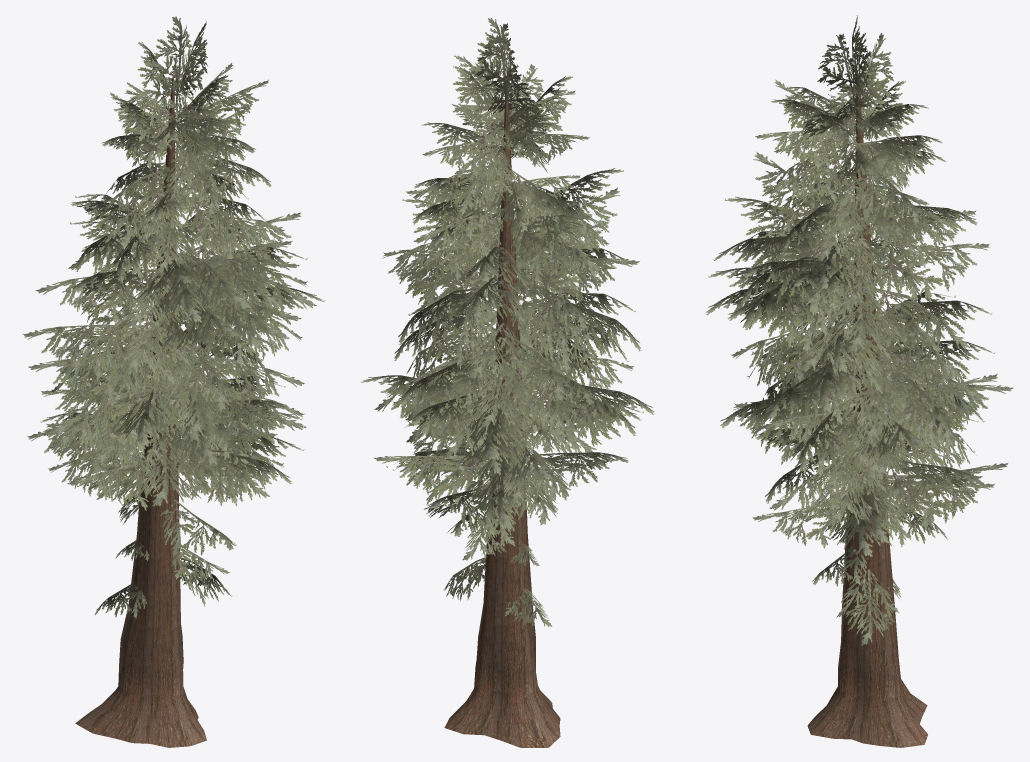
The model's file is Sequoiadendron_Giganteum_Spring_Adult.glb.
The picture shows the model from 3 angles, left to right: view 1: azimuth 30°, elevation 25°; view 2: azimuth 150°, elevation 25°; view 3: azimuth 270°, elevation 25°; orthographic projection. The views are drawn at different scales.
Parts seen in each view (by area): view 1: Sequoiadendron_Giganteum_Spring_Adult__LOD3; view 2: Sequoiadendron_Giganteum_Spring_Adult__LOD3; view 3: Sequoiadendron_Giganteum_Spring_Adult__LOD3.
Boxes of the visible parts, x1,y1,x2,y2 form: Sequoiadendron_Giganteum_Spring_Adult__LOD3: (22,16,325,747); Sequoiadendron_Giganteum_Spring_Adult__LOD3: (361,18,654,747); Sequoiadendron_Giganteum_Spring_Adult__LOD3: (706,15,1013,747).
Bounding box in the file's own units: 25.49 × 61.45 × 24.99.
2 materials, 2 textured.
